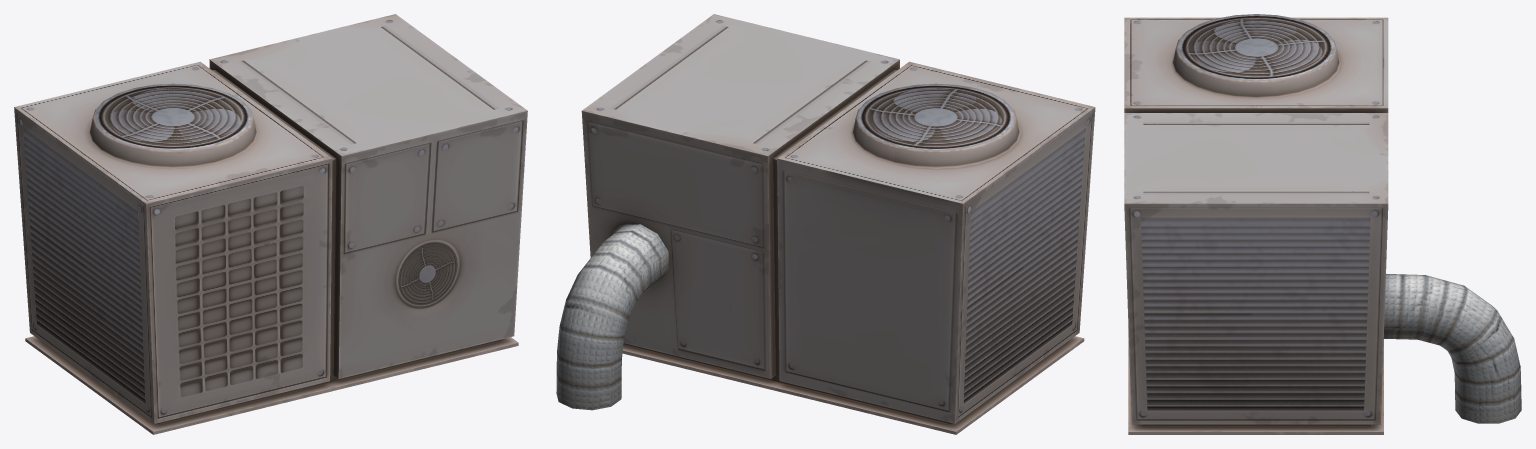
File: RoofVent03.FBX
The picture shows the model from 3 angles, left to right: view 1: azimuth 30°, elevation 25°; view 2: azimuth 150°, elevation 25°; view 3: azimuth 270°, elevation 25°; orthographic projection.
Parts seen in each view (by area): view 1: RoofVent03; view 2: RoofVent03; view 3: RoofVent03.
Part boxes in pixels (bbox=[...]): RoofVent03: bbox=[14, 14, 527, 434]; RoofVent03: bbox=[556, 14, 1095, 434]; RoofVent03: bbox=[1124, 14, 1521, 434].
Size of what is drawn, in the model's own units: 1.99 by 1.25 by 1.8.
